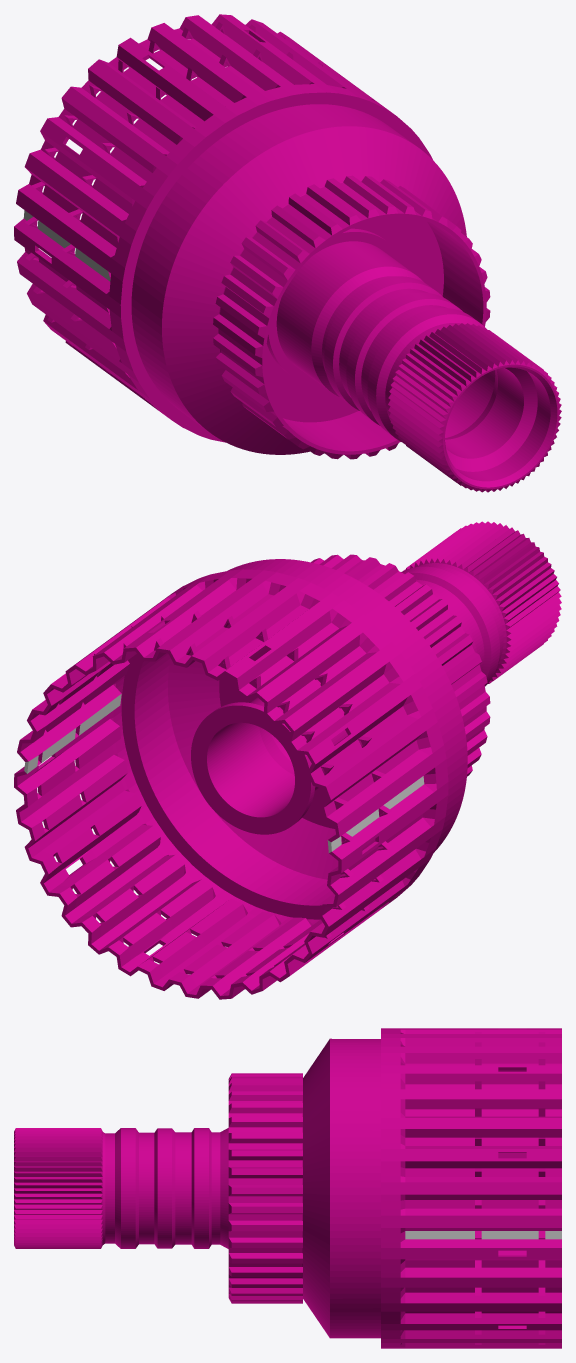
The picture shows the model from 3 angles, top to bottom: view 1: azimuth 30°, elevation 25°; view 2: azimuth 150°, elevation 25°; view 3: azimuth 270°, elevation 25°; orthographic projection. The views are drawn at different scales.
Visible parts, largest first — view 1: 632; view 2: 632; view 3: 632.
Part boxes in pixels (<box>): 632: <box>14,14,561,492</box>; 632: <box>14,521,561,999</box>; 632: <box>14,1028,561,1348</box>.
Bounding box in the file's own units: 1311 × 1309 × 2240.
